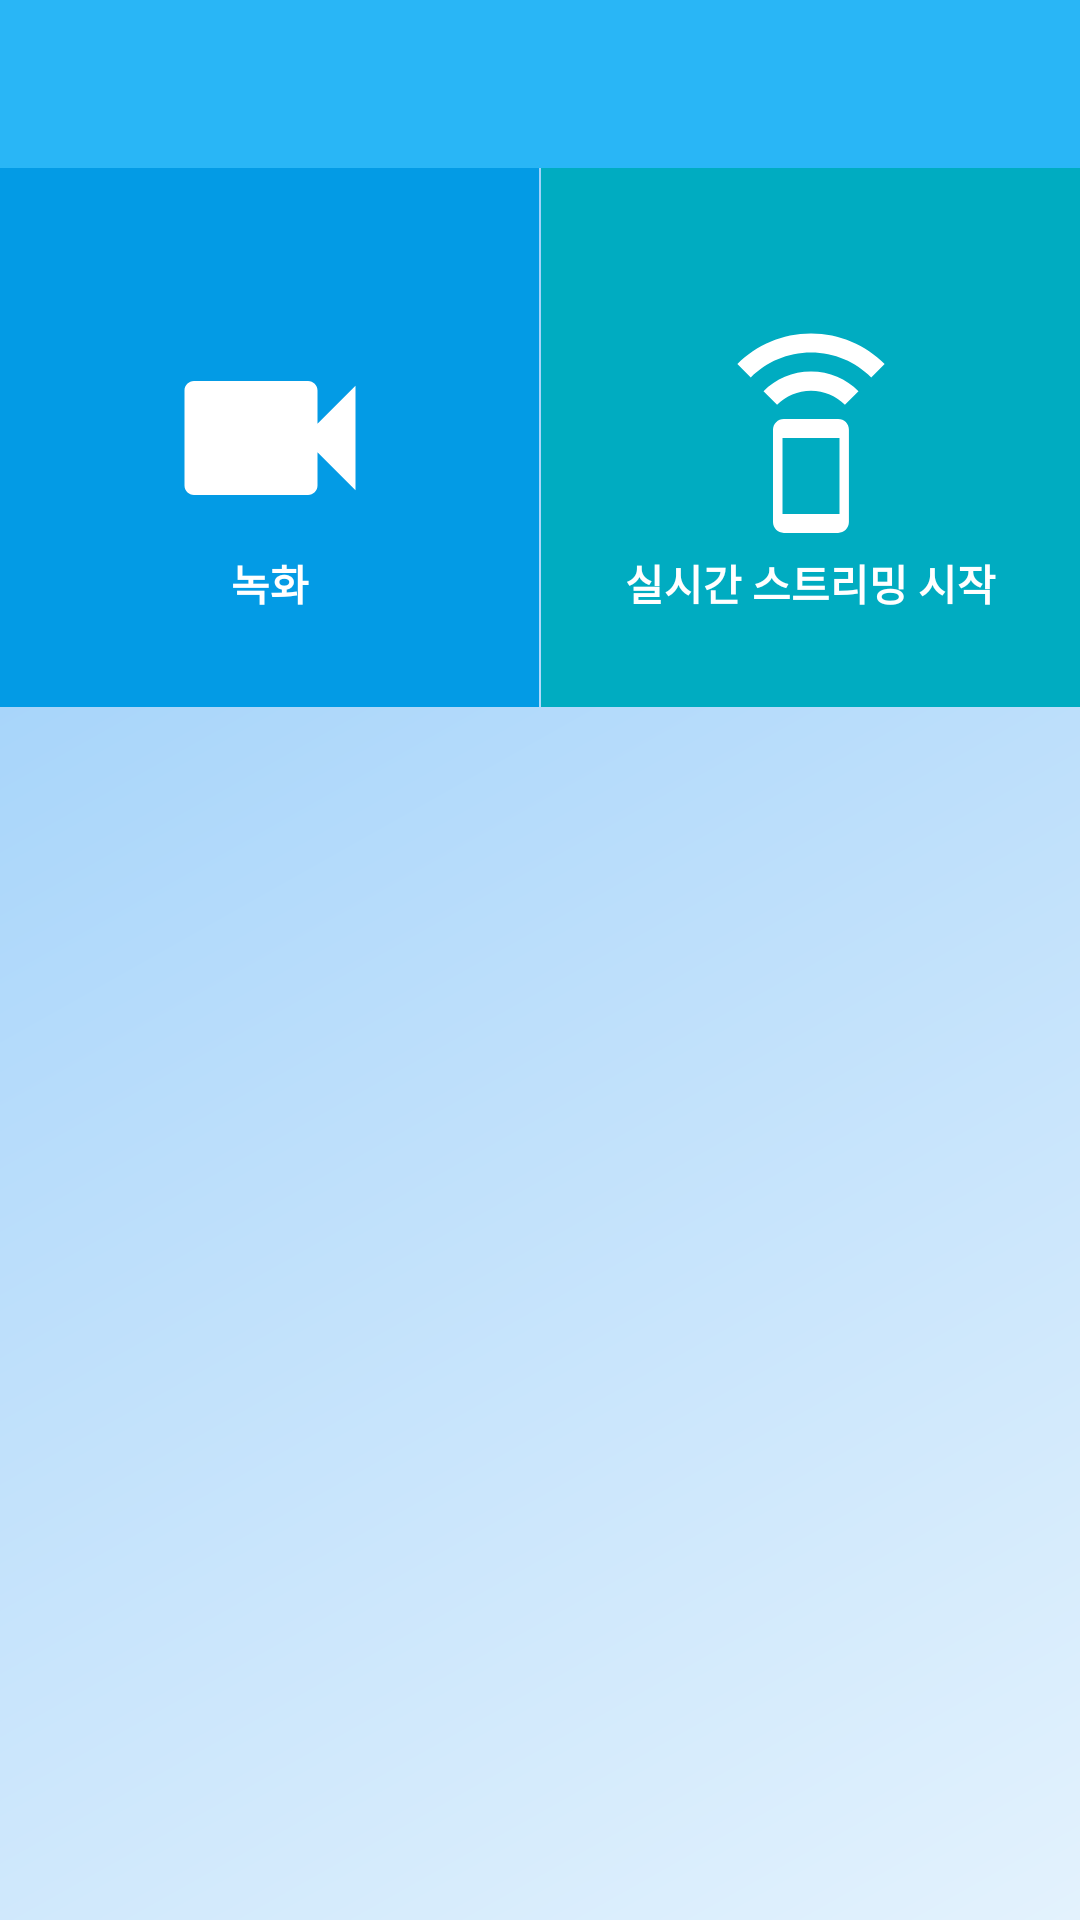

Locate icon controls on the screen. Image size 1080 x 1920, boxes as (left=x1, top=y1, right=x2, bottom=y2).
speaker phone: (left=737, top=333, right=885, bottom=533)
videocam: (left=184, top=381, right=356, bottom=495)
